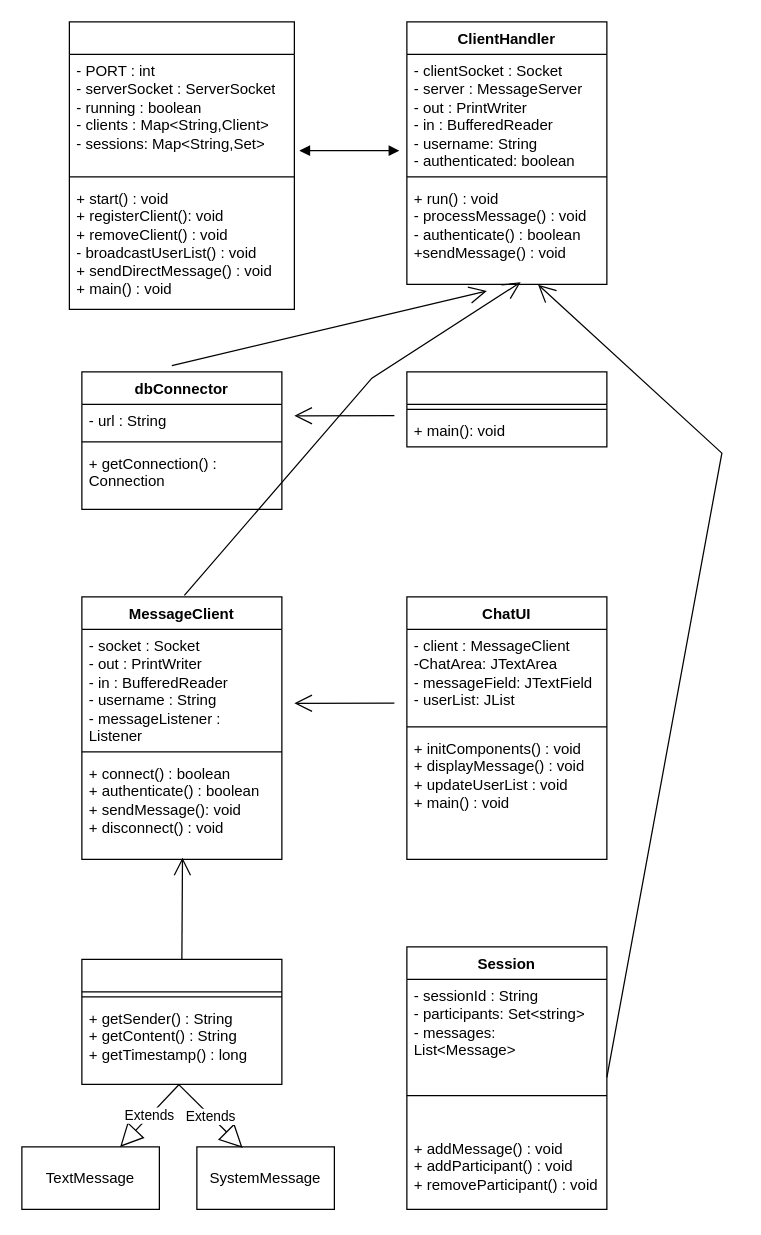
The diagram is 761 pixels wide and 1235 high, and some of its shapes have lost their labels. Here are the shapes that lost their labels. From the top down, the box of each, then its label:
(68, 21, 294, 309): MessageServer
(406, 371, 607, 447): dbInitializer
(81, 958, 282, 1084): Message (Interface)
